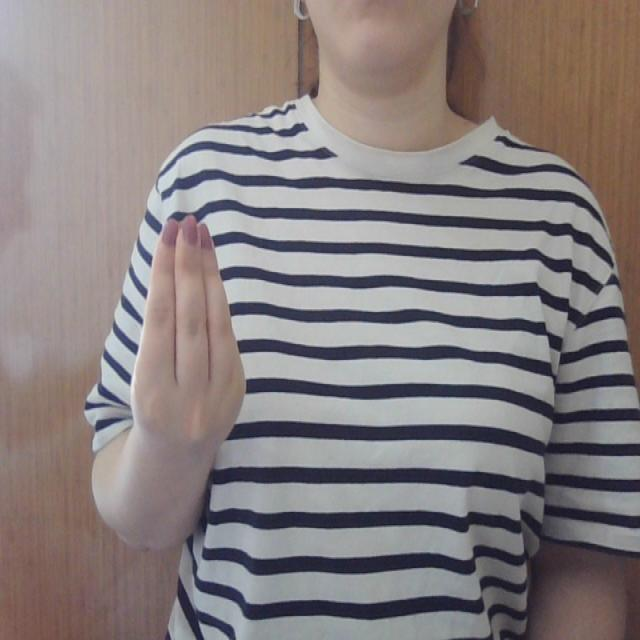iyi: (120, 205, 257, 440)
